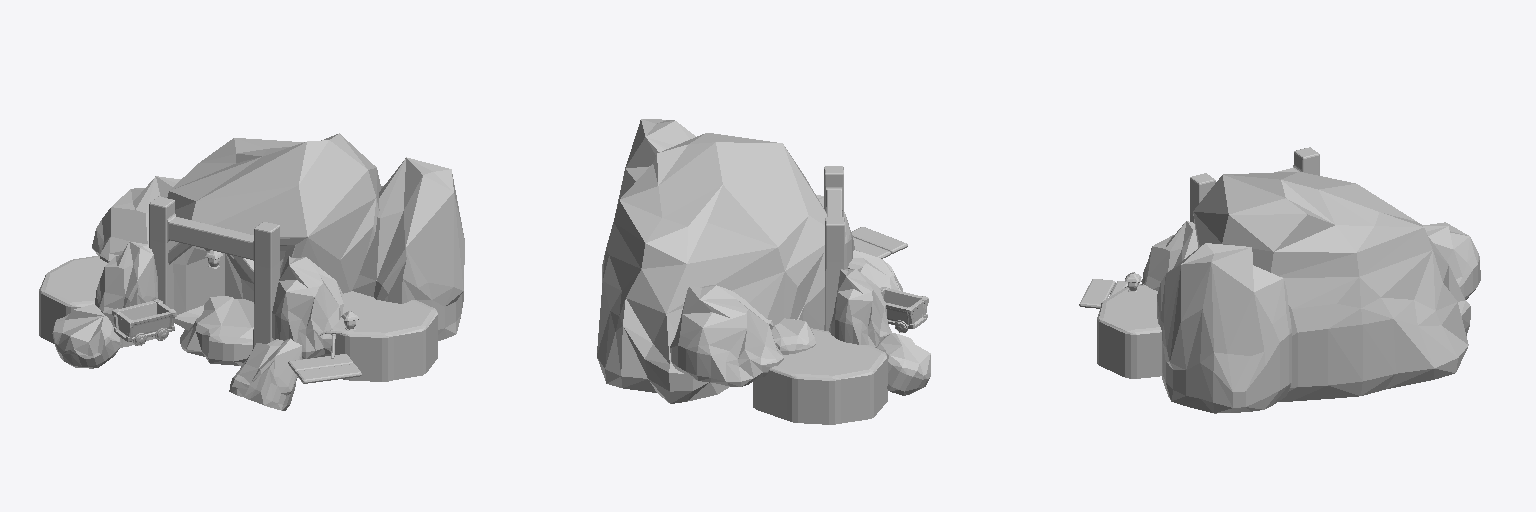
Rendered from SM_mine.obj.
3 views of the same model, side by side, from view 1: azimuth 30°, elevation 25°; view 2: azimuth 150°, elevation 25°; view 3: azimuth 270°, elevation 25° (orthographic).
Visible parts, largest first — view 1: Cylinder.014, Cylinder.018, Cylinder.016, porte.001, Cylinder.013, Cylinder.008, Cylinder.015, Cylinder.017, Cylinder.011, Cylinder.009, Cylinder.012, Cube (+2 smaller); view 2: Cylinder.014, Cylinder.017, Cylinder.009, Cylinder.011, porte.001, Cylinder.018, Cylinder.012, Cube, Cylinder.010, Cylinder.015, planche.011; view 3: Cylinder.014, Cylinder.018, Cylinder.016, Cylinder.009, Cylinder.013, porte.001, planche.011.
Part boxes in pixels (bbox=[...]): Cylinder.014: bbox=[167, 133, 380, 330]; Cylinder.018: bbox=[352, 157, 464, 340]; Cylinder.016: bbox=[314, 291, 437, 381]; porte.001: bbox=[149, 196, 279, 347]; Cylinder.013: bbox=[272, 256, 343, 358]; Cylinder.008: bbox=[180, 296, 253, 365]; Cylinder.015: bbox=[229, 338, 302, 410]; Cylinder.017: bbox=[39, 256, 155, 347]; Cylinder.011: bbox=[95, 241, 157, 326]; Cylinder.009: bbox=[92, 176, 180, 262]; Cylinder.012: bbox=[52, 304, 121, 368]; Cube: bbox=[112, 299, 176, 341]; Cylinder.014: bbox=[597, 133, 826, 403]; Cylinder.017: bbox=[753, 328, 887, 424]; Cylinder.009: bbox=[670, 285, 783, 386]; Cylinder.011: bbox=[829, 269, 891, 347]; porte.001: bbox=[824, 166, 844, 330]; Cylinder.018: bbox=[615, 119, 695, 213]; Cylinder.012: bbox=[876, 333, 930, 395]; Cube: bbox=[879, 287, 928, 328]; Cylinder.010: bbox=[769, 318, 815, 354]; Cylinder.015: bbox=[848, 250, 902, 291]; planche.011: bbox=[852, 227, 907, 253]; Cylinder.014: bbox=[1193, 172, 1470, 401]; Cylinder.018: bbox=[1157, 243, 1291, 413]; Cylinder.016: bbox=[1097, 284, 1161, 378]; Cylinder.009: bbox=[1423, 222, 1480, 299]; Cylinder.013: bbox=[1142, 221, 1197, 290]; porte.001: bbox=[1190, 147, 1319, 222]; planche.011: bbox=[1079, 279, 1115, 308].
Size of the model in its own units: 7.04 by 3.82 by 6.85.